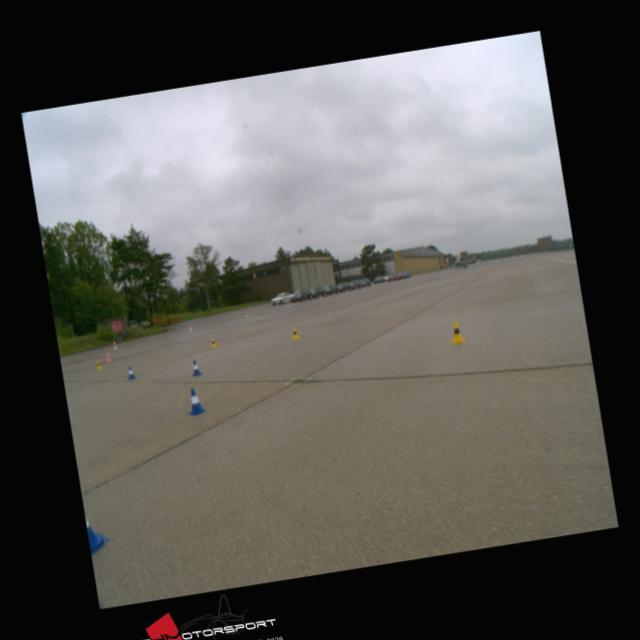blue_cone: (185, 386, 205, 414), (190, 360, 202, 376), (125, 366, 136, 380)
yellow_cone: (449, 322, 464, 342), (291, 328, 300, 340), (210, 338, 218, 348), (96, 360, 102, 369)
